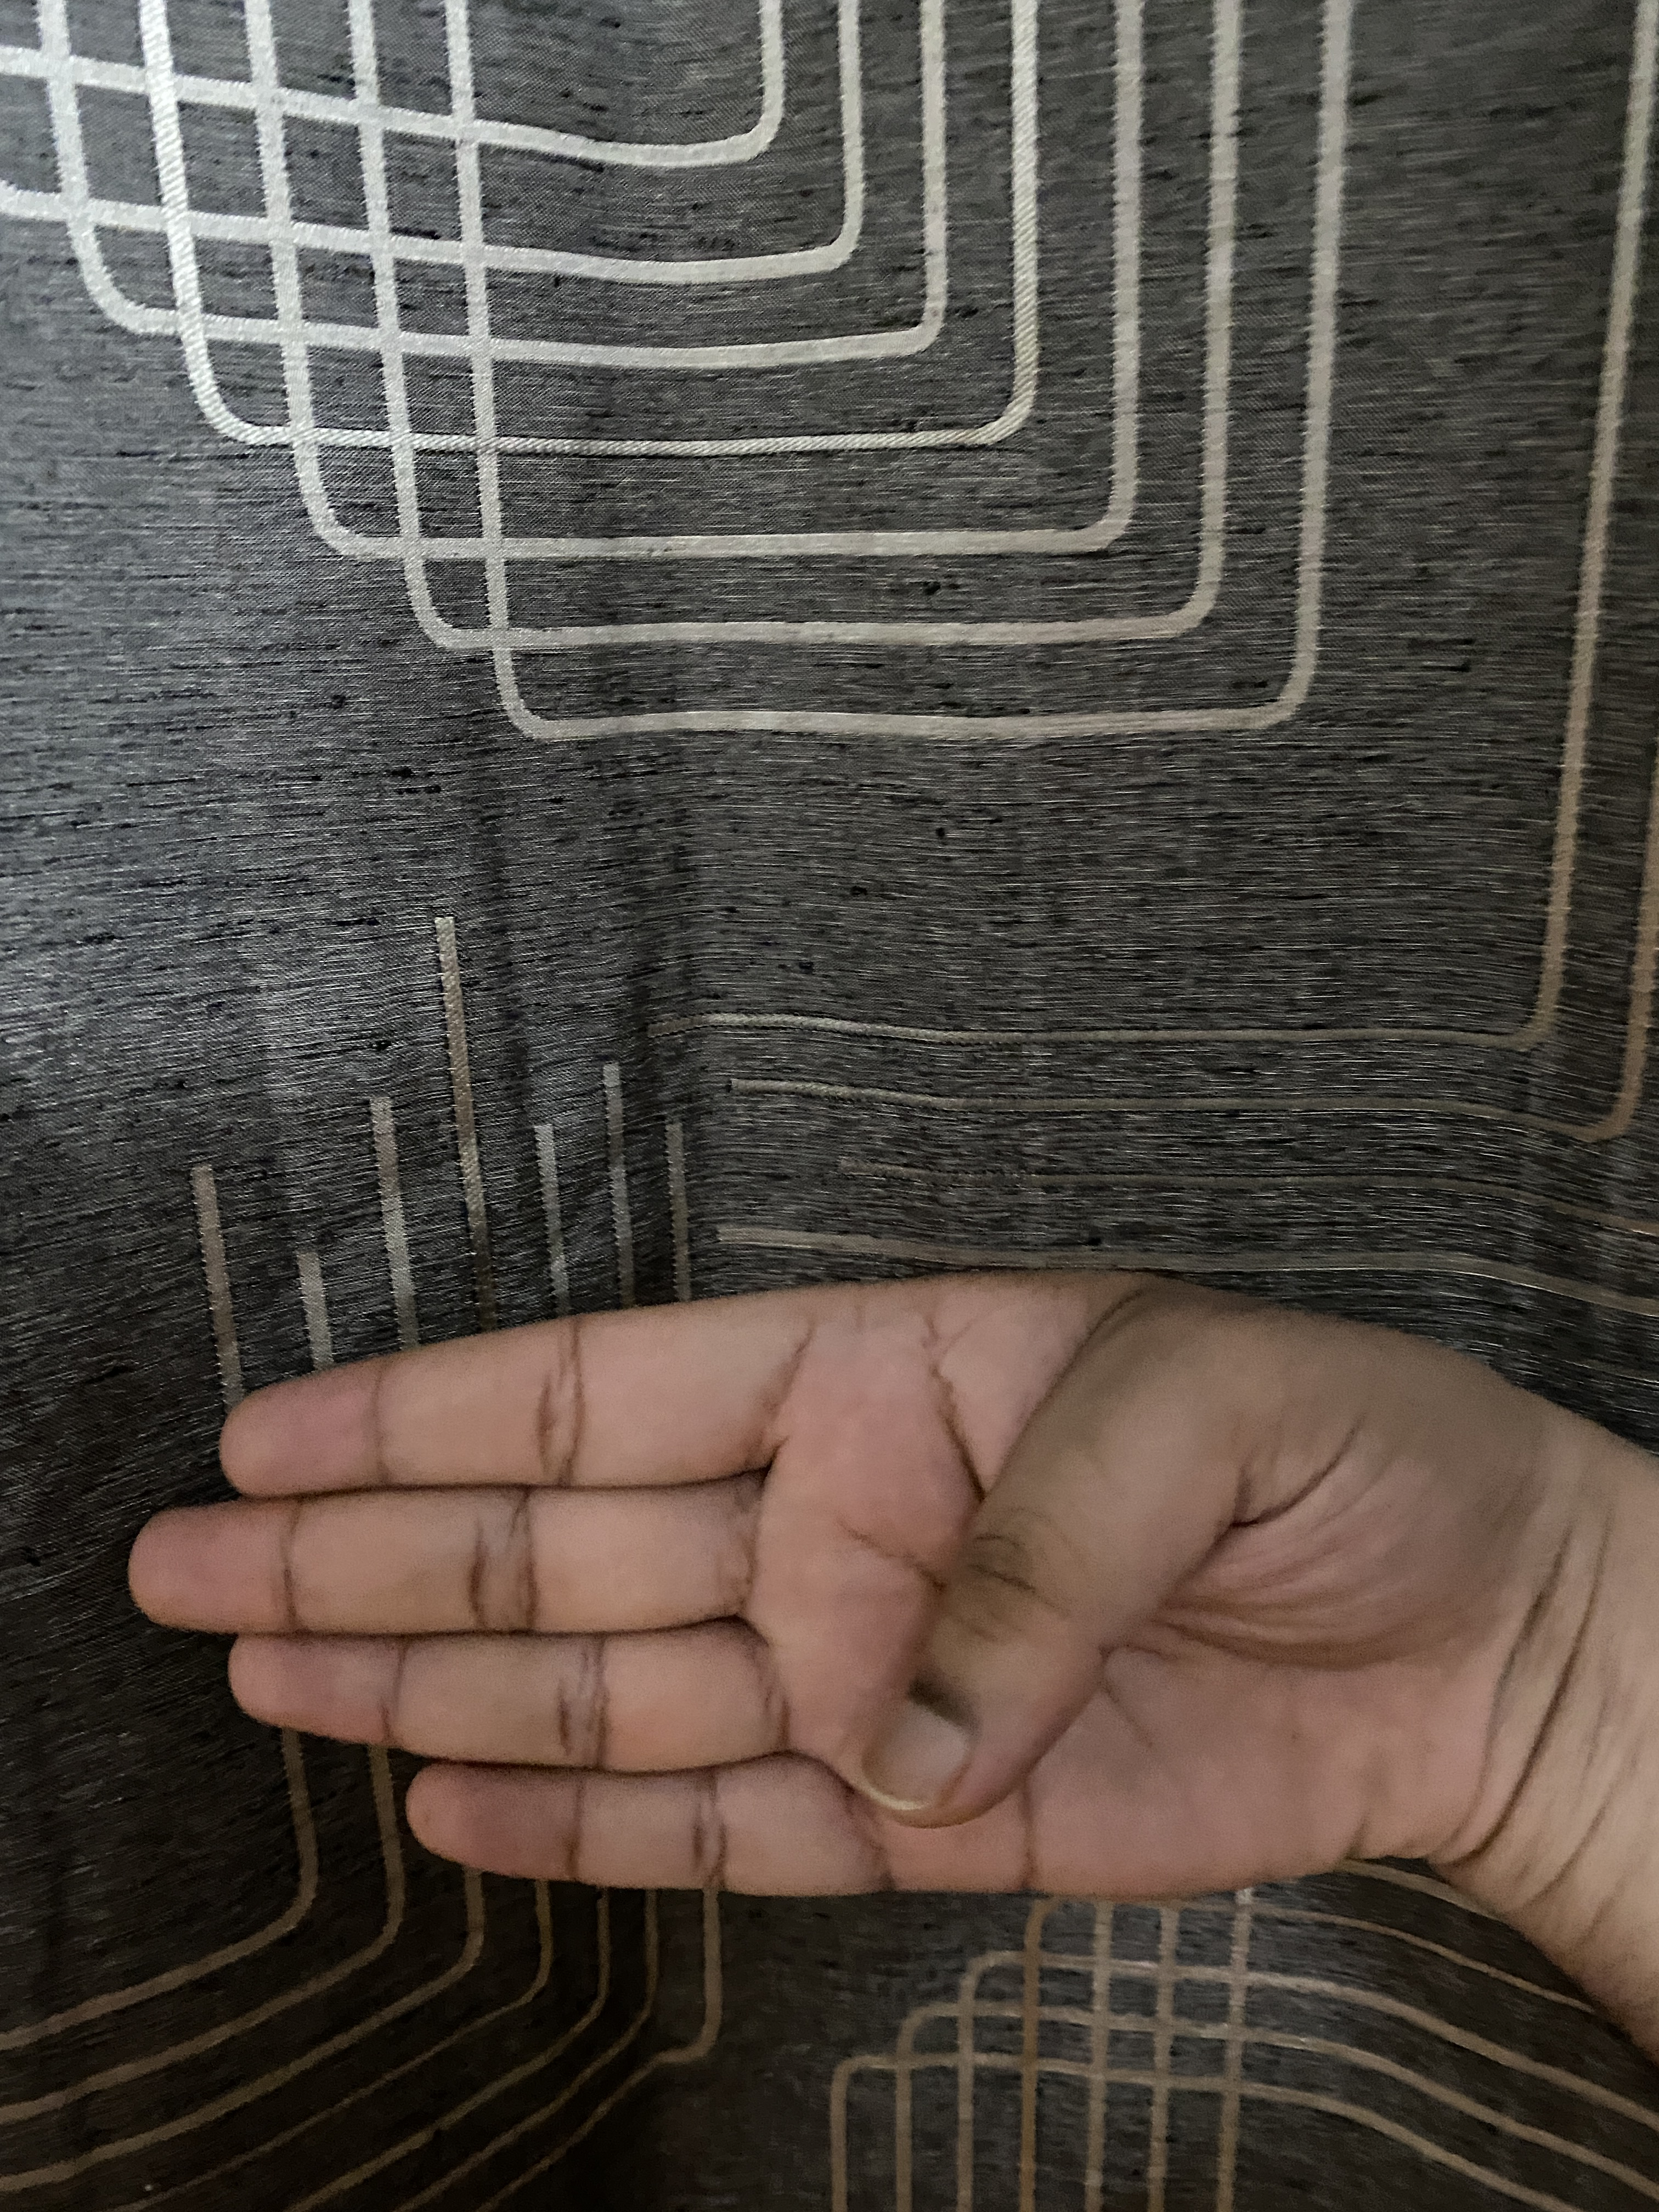right: (98, 1094, 1659, 2013)
